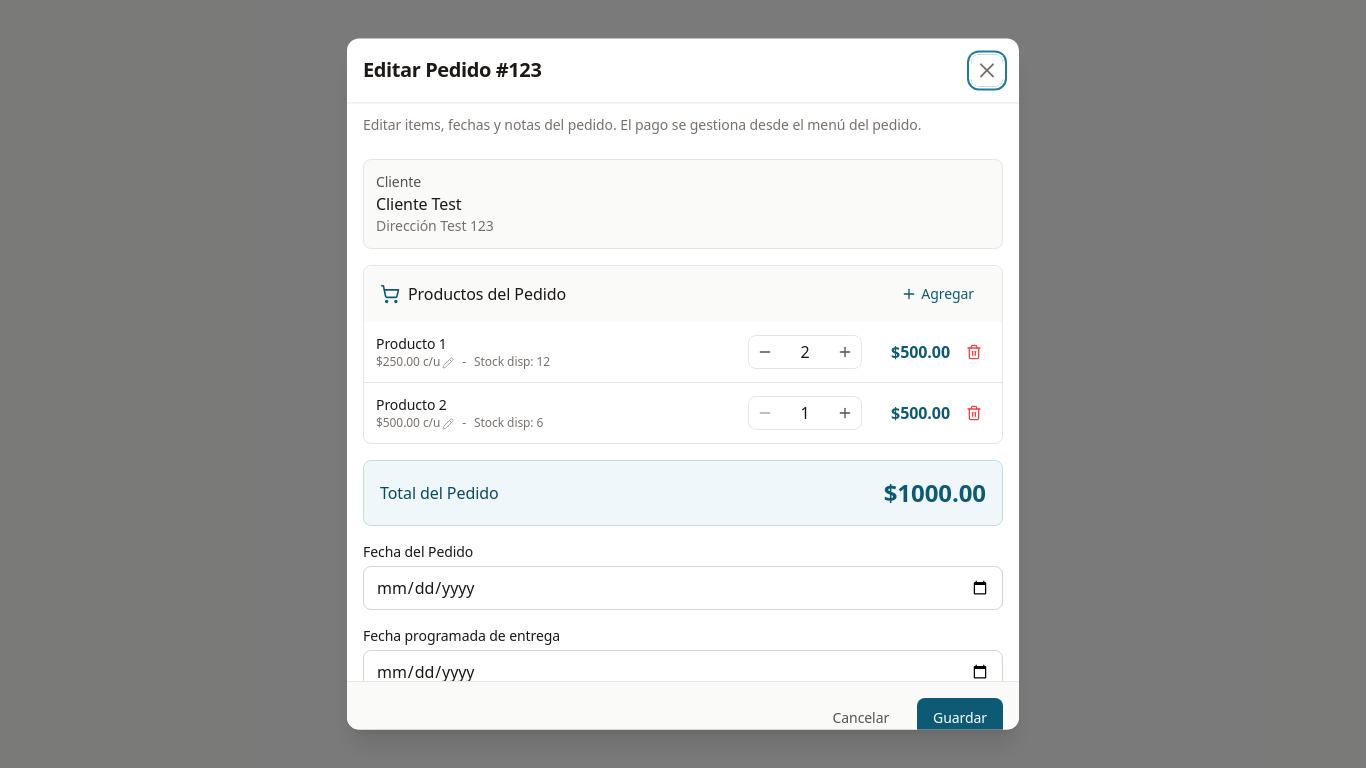
Test: ModalEditarPedido › Edición de items (Admin) › filtra productos al buscar
Click the button "Agregar": (938, 294) 889,278 -> 986,310
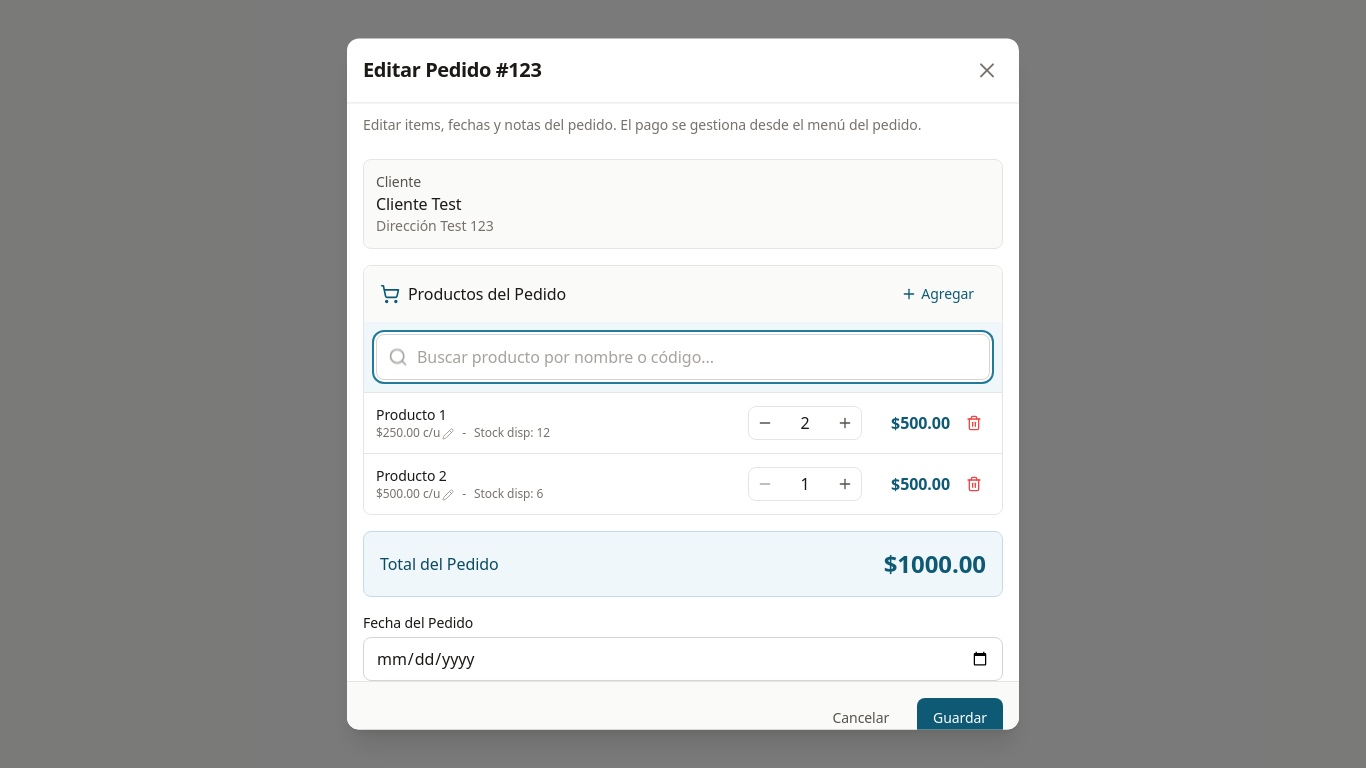
In the field with placeholder "Buscar producto por nombre o código...": (683, 357) 376,334 -> 990,380, type "Producto 3"
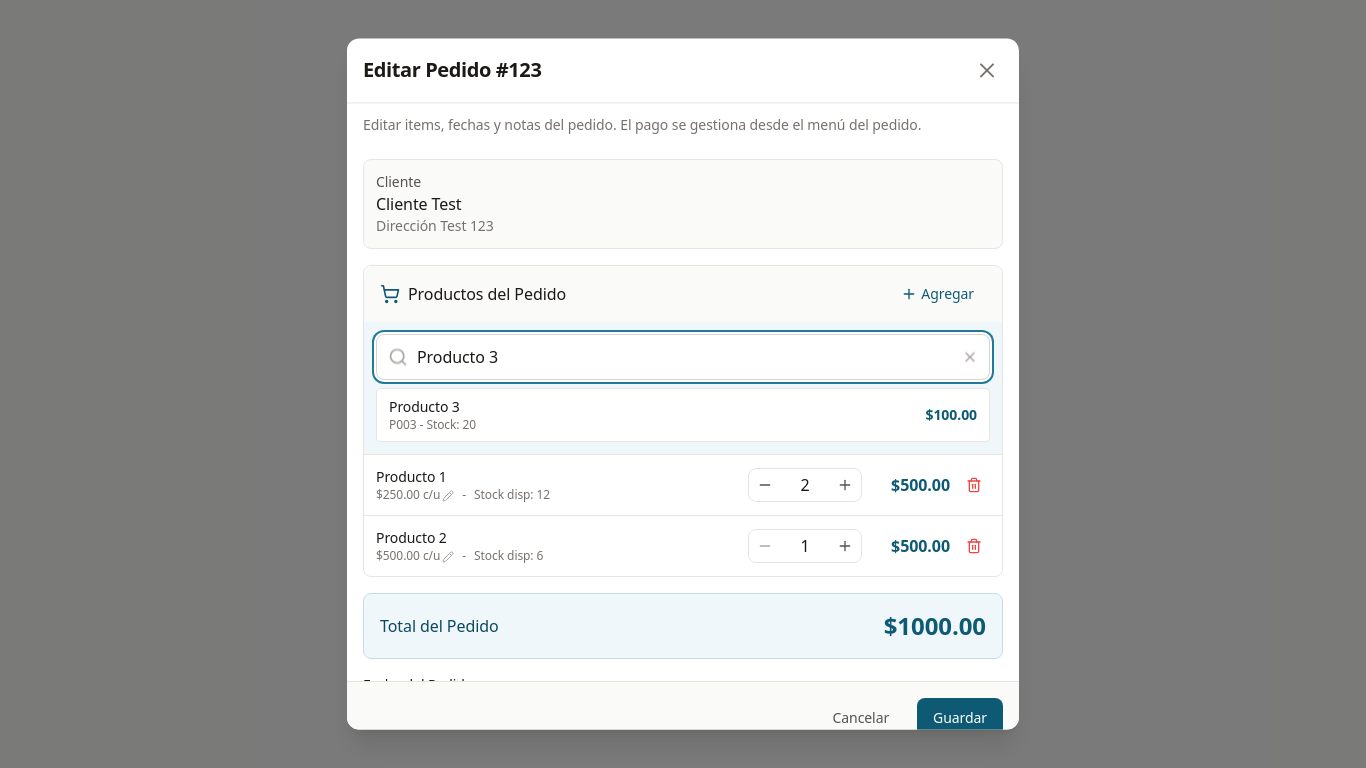
Now the text "P003 - Stock: 20" is shown, box 389,417 -> 476,433
